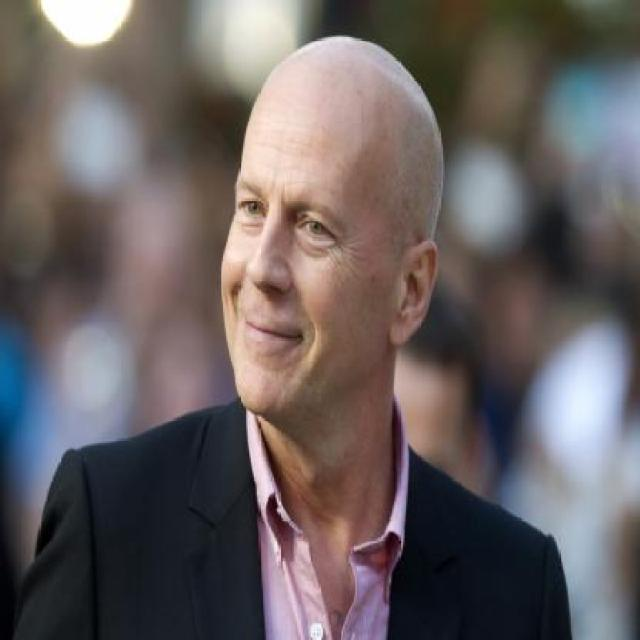no_helmet: (222, 15, 478, 251)
